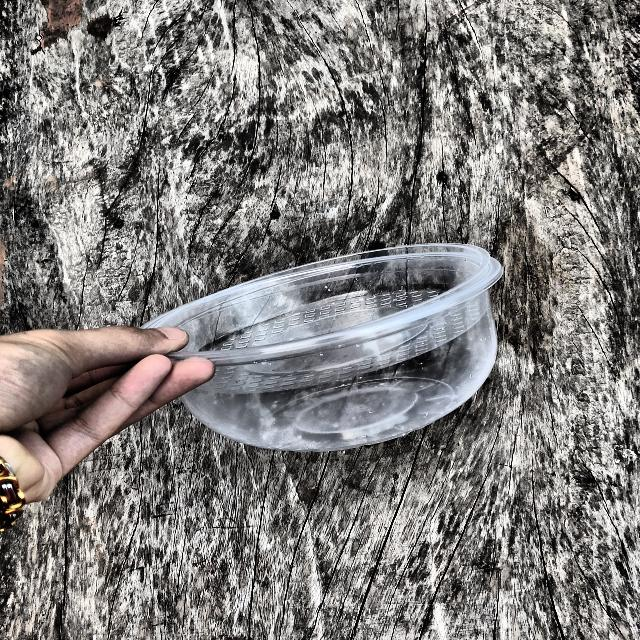plastic container: (114, 230, 524, 476)
